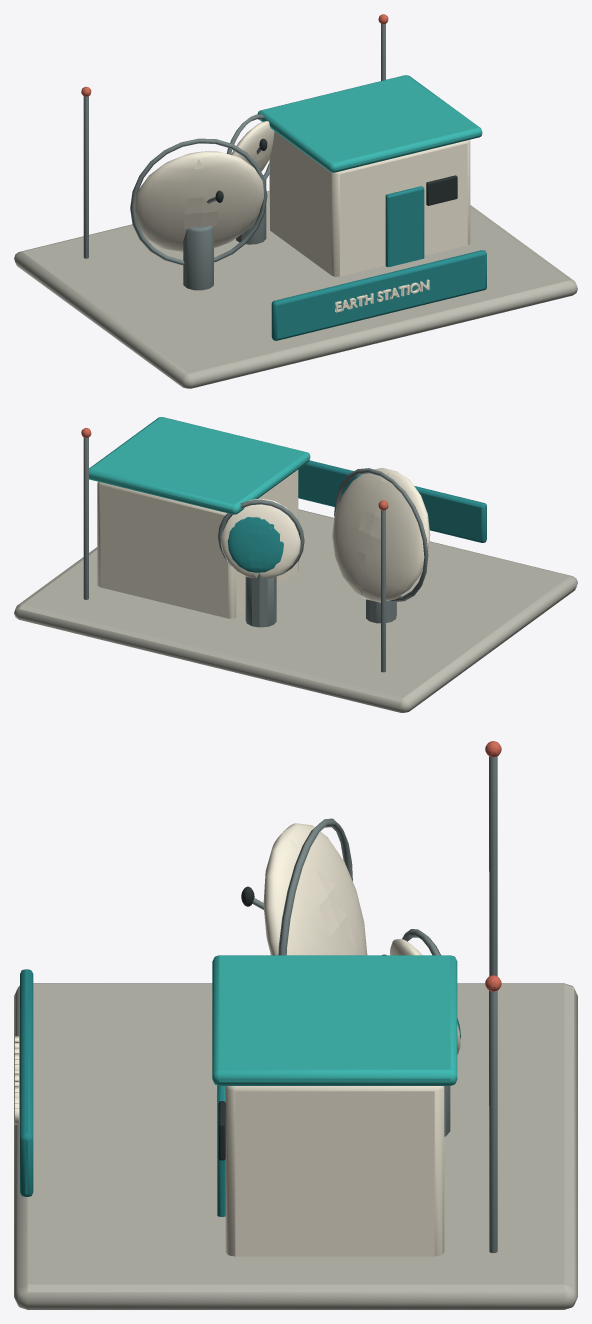
The model's file is satellite-station-v2.glb.
3 views of the same model, one above another, from view 1: azimuth 30°, elevation 25°; view 2: azimuth 150°, elevation 25°; view 3: azimuth 270°, elevation 25° (orthographic). The views are drawn at different scales.
Visible parts, largest first — view 1: Earth station ground slab, Equipment hut, Hut roof, Large tracking dish reflector, Earth station sign, Hut door, Large tracking dish rim, Large tracking dish pedestal, Auxiliary tracking dish reflector, Perimeter mast, Sign EARTH STATION, Hut ventilation grille (+1 smaller); view 2: Earth station ground slab, Equipment hut, Hut roof, Large tracking dish reflector, Earth station sign, Auxiliary tracking dish dark rear, Auxiliary tracking dish reflector, Auxiliary tracking dish pedestal, Large tracking dish rim, Perimeter mast.001, Perimeter mast, Auxiliary tracking dish rim (+1 smaller); view 3: Earth station ground slab, Equipment hut, Hut roof, Large tracking dish reflector, Earth station sign, Perimeter mast.001, Perimeter mast, Large tracking dish rim, Hut door.
Part boxes in pixels (box(x1,y1,x2,y2)): Earth station ground slab: box(14, 191, 577, 388); Equipment hut: box(269, 131, 470, 276); Hut roof: box(257, 75, 482, 172); Large tracking dish reflector: box(134, 151, 263, 252); Earth station sign: box(271, 250, 486, 340); Hut door: box(385, 186, 424, 266); Large tracking dish rim: box(130, 138, 267, 265); Large tracking dish pedestal: box(183, 226, 213, 290); Auxiliary tracking dish reflector: box(231, 121, 274, 171); Perimeter mast: box(83, 96, 88, 258); Sign EARTH STATION: box(335, 279, 429, 312); Hut ventilation grille: box(426, 175, 457, 205); Earth station ground slab: box(14, 509, 577, 712); Equipment hut: box(97, 469, 298, 618); Hut roof: box(89, 417, 310, 514); Large tracking dish reflector: box(332, 468, 430, 602); Earth station sign: box(298, 460, 486, 542); Auxiliary tracking dish dark rear: box(227, 517, 283, 572); Auxiliary tracking dish reflector: box(221, 498, 300, 578); Auxiliary tracking dish pedestal: box(245, 573, 276, 627); Large tracking dish rim: box(334, 468, 428, 602); Perimeter mast.001: box(83, 437, 88, 599); Perimeter mast: box(381, 510, 385, 672); Auxiliary tracking dish rim: box(218, 499, 304, 575); Earth station ground slab: box(14, 983, 577, 1309); Equipment hut: box(225, 1086, 444, 1256); Hut roof: box(212, 955, 457, 1085); Large tracking dish reflector: box(263, 823, 367, 955); Earth station sign: box(20, 969, 33, 1196); Perimeter mast.001: box(489, 990, 497, 1253); Perimeter mast: box(489, 756, 497, 976); Large tracking dish rim: box(278, 818, 352, 955); Hut door: box(217, 1085, 225, 1216).
Bounding box in the file's own units: 7.6 × 3.4 × 5.8.
Materials: 1 (1 with a texture image).
